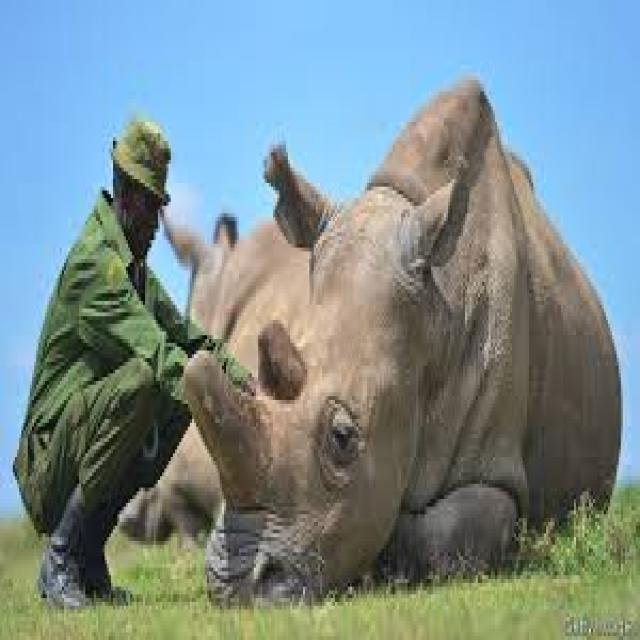ranger: (17, 45, 194, 612)
rhino: (202, 61, 592, 606)
